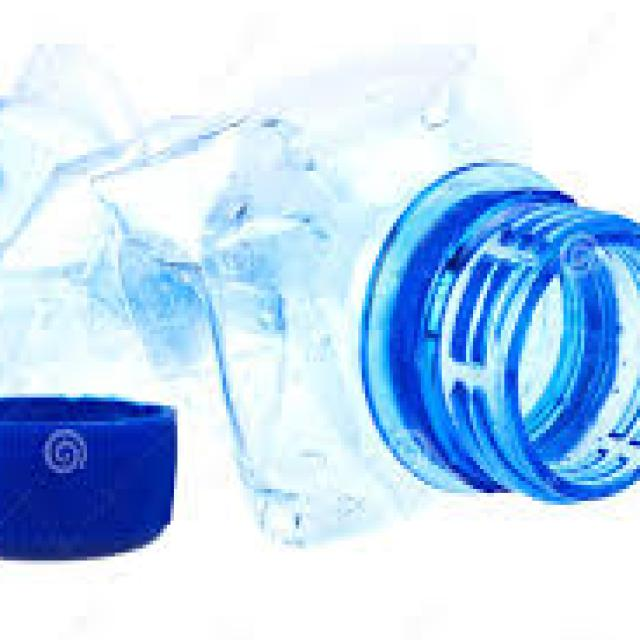organic: (5, 29, 630, 559)
